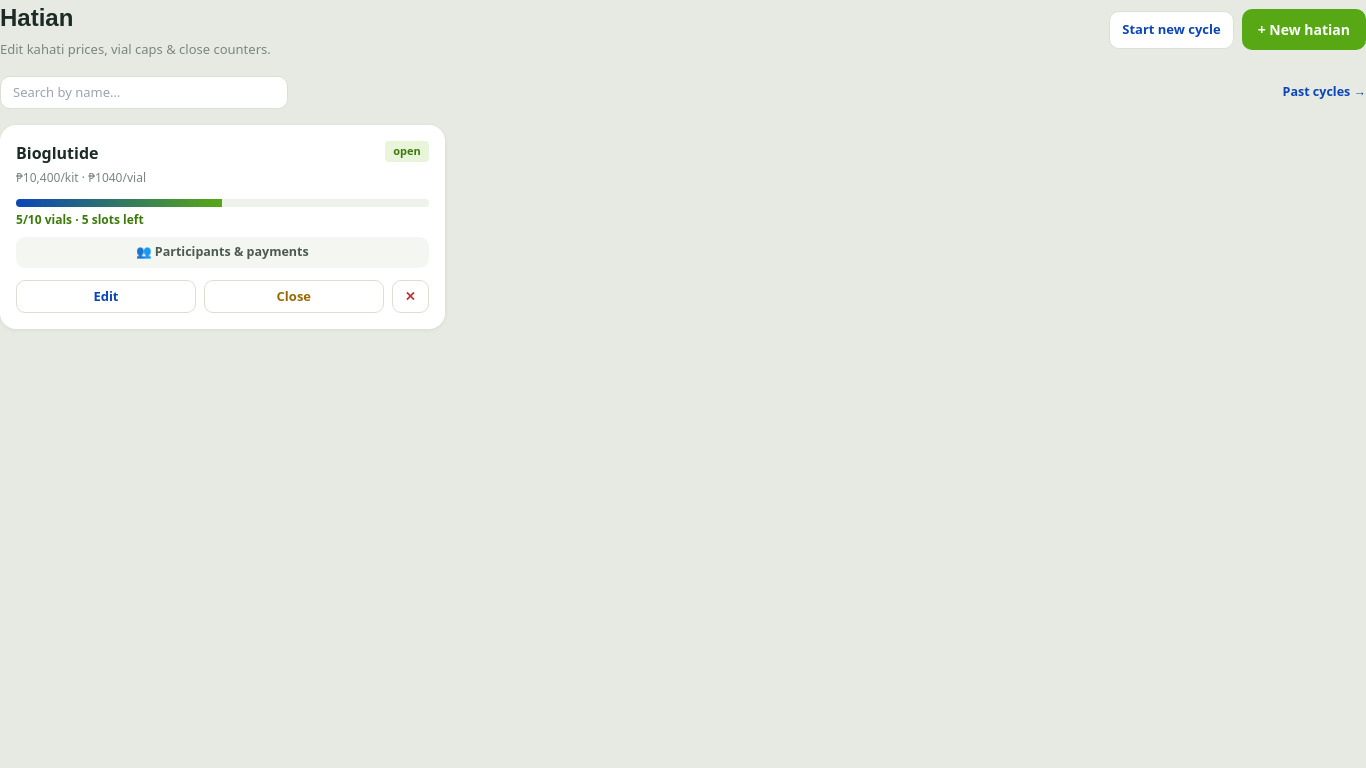
Scenario: AdminGroupBuysPage › closes the form when the save succeeds
Click the button "Edit" at (106, 297), box [16,280,196,313]
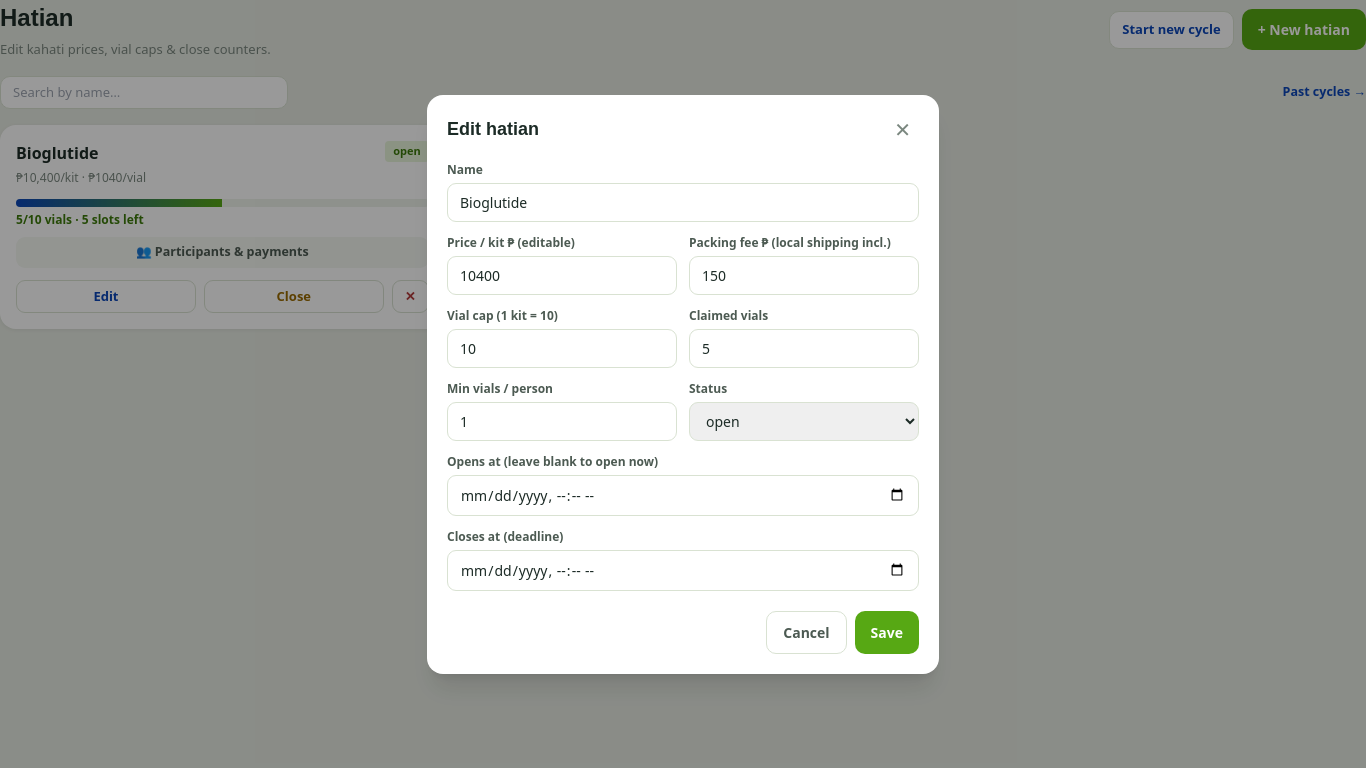
Check: the text "Edit hatian" is shown, box [447,116,539,143]
Click the button "Save" at (887, 632), box [855,610,919,654]
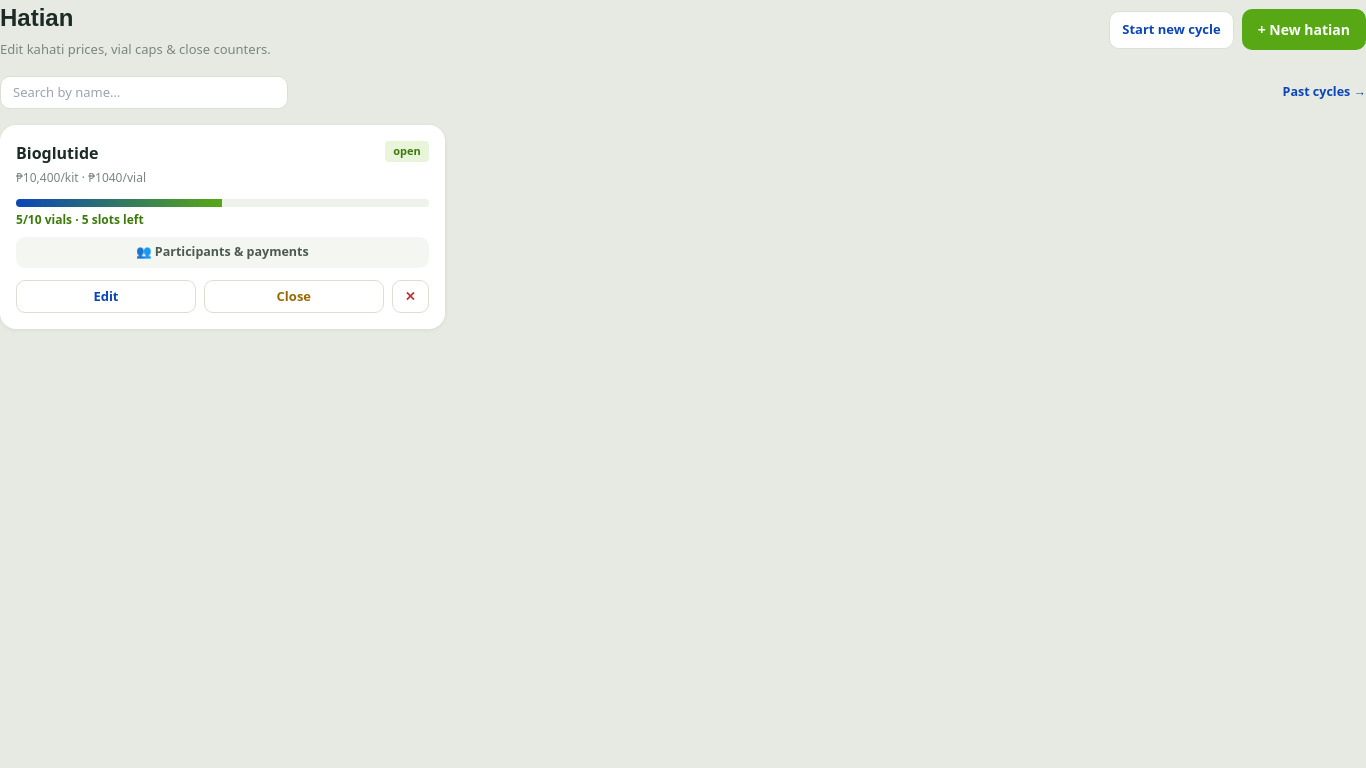
Check: the text "Edit hatian" is gone
